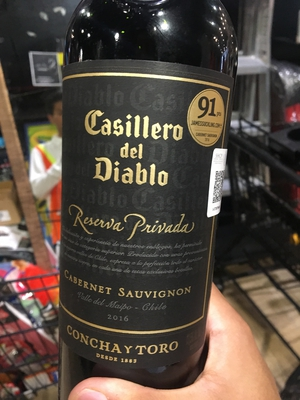casillero del diablo reserva privada cabernet sauvignon: (46, 15, 234, 400)
